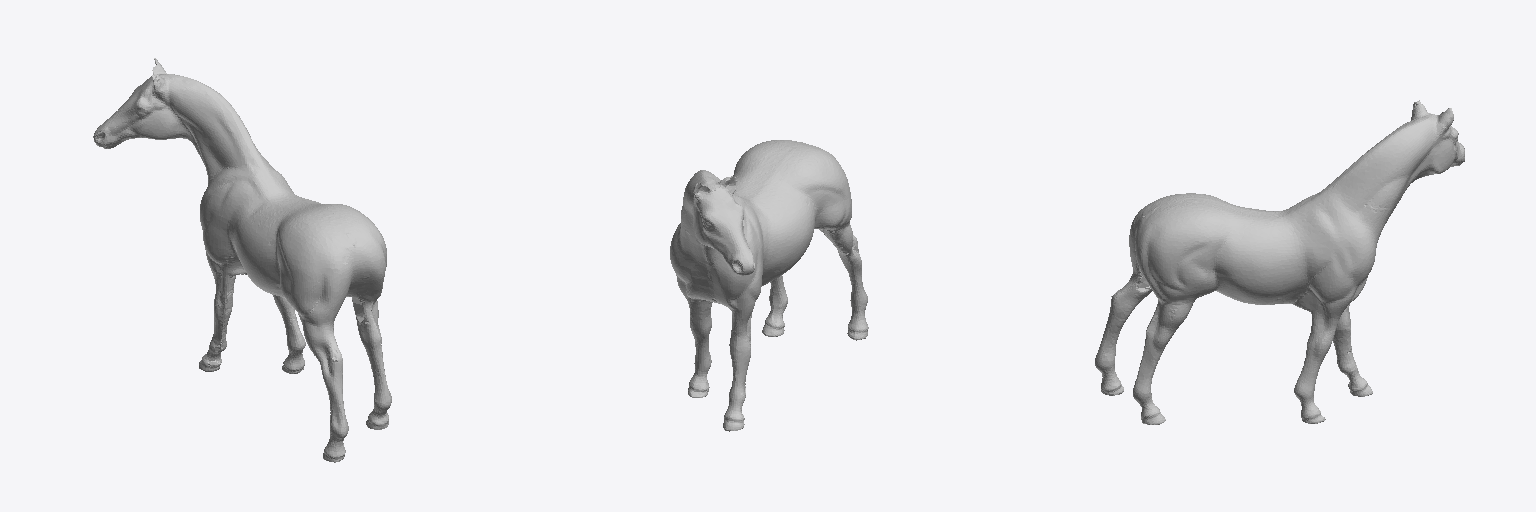
The model's file is zebra.obj.
3 renders of one model, left to right at view 1: azimuth 30°, elevation 25°; view 2: azimuth 150°, elevation 25°; view 3: azimuth 270°, elevation 25°, orthographic.
Parts seen in each view (by area): view 1: zebra; view 2: zebra; view 3: zebra.
Part boxes in pixels (bbox=[...]): zebra: bbox=[93, 58, 391, 462]; zebra: bbox=[670, 140, 868, 431]; zebra: bbox=[1095, 100, 1464, 424].
Bounding box in the file's own units: 11.46 × 20.84 × 25.